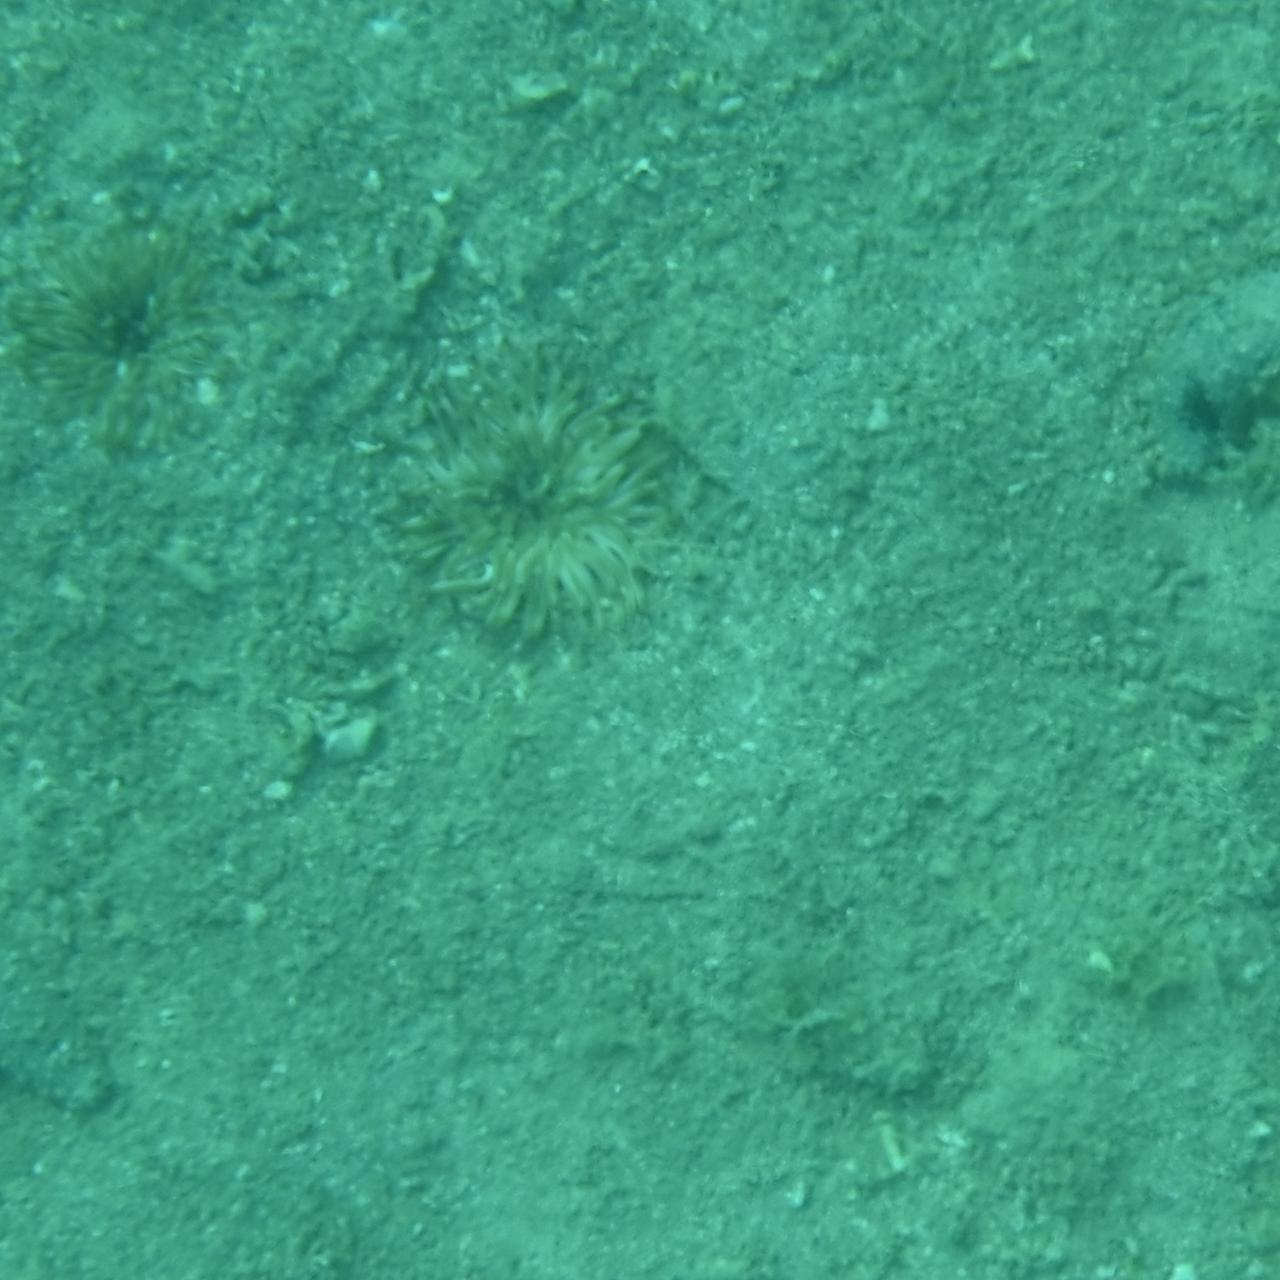Condylactis aurantiaca: (354, 353, 765, 695), (0, 150, 302, 470)
Holothuria tubulosa: (0, 799, 203, 1142), (1056, 256, 1280, 516)
